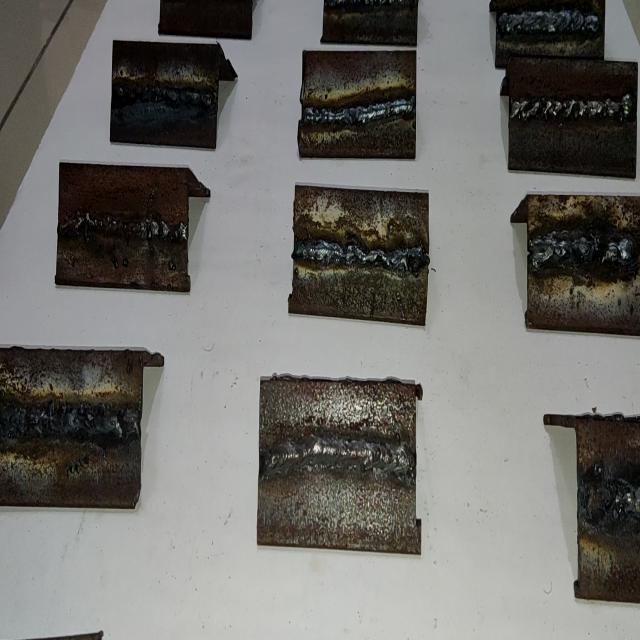Defect: (577, 466, 637, 534), (58, 213, 186, 244), (111, 70, 168, 117), (584, 220, 620, 280), (391, 229, 426, 283)
Welding Line: (293, 236, 428, 279), (261, 442, 414, 479), (0, 403, 137, 440), (59, 210, 189, 246), (530, 232, 636, 275), (512, 92, 634, 122), (306, 98, 414, 126), (116, 81, 214, 111), (580, 478, 640, 524), (496, 12, 598, 36)
Workpiece: (256, 374, 424, 560), (0, 350, 142, 510), (288, 186, 432, 321), (54, 163, 192, 294), (526, 188, 640, 340), (507, 52, 639, 179), (300, 46, 420, 162), (109, 35, 221, 154), (571, 414, 640, 606)
